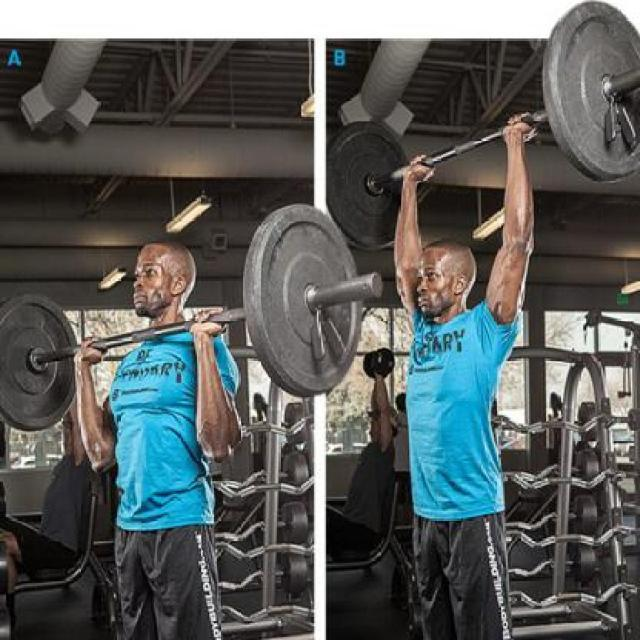barbell: (240, 199, 388, 406)
